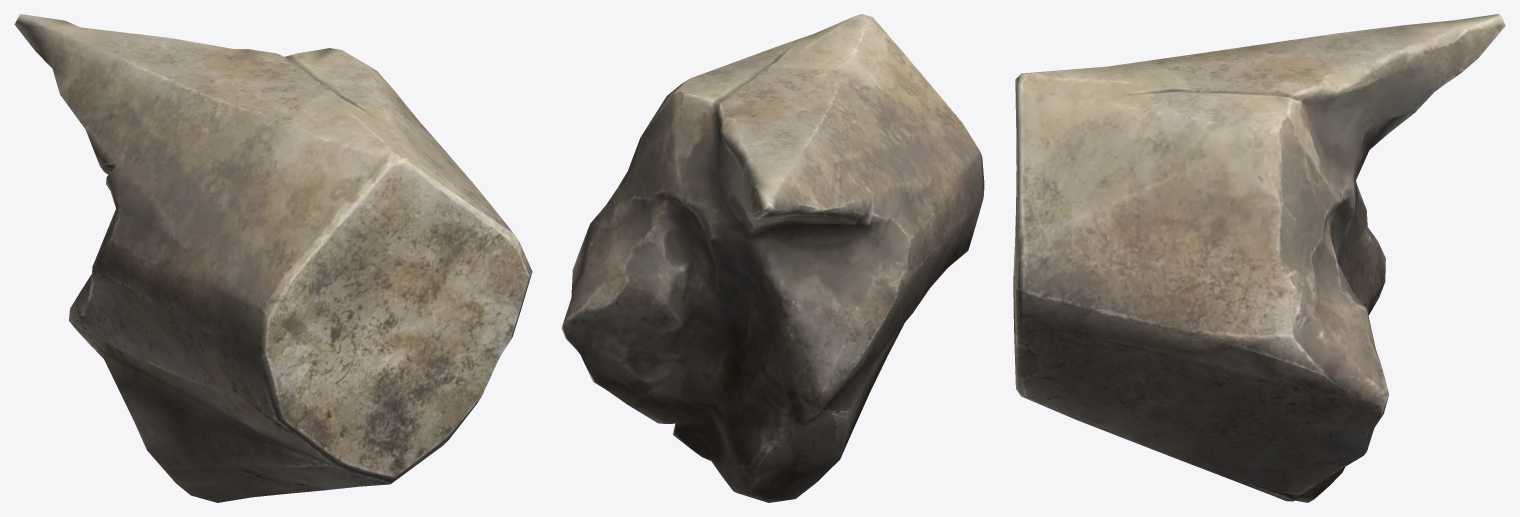
3 renders of one model, left to right at view 1: azimuth 30°, elevation 25°; view 2: azimuth 150°, elevation 25°; view 3: azimuth 270°, elevation 25°, orthographic. The views are drawn at different scales.
Visible parts, largest first — view 1: SM_Dragonkin_Gargoyles_01v4_LOD0; view 2: SM_Dragonkin_Gargoyles_01v4_LOD0; view 3: SM_Dragonkin_Gargoyles_01v4_LOD0.
Boxes of the visible parts, x1,y1,x2,y2 form: SM_Dragonkin_Gargoyles_01v4_LOD0: (14, 14, 532, 502); SM_Dragonkin_Gargoyles_01v4_LOD0: (561, 14, 984, 502); SM_Dragonkin_Gargoyles_01v4_LOD0: (1013, 14, 1505, 502).
Bounding box in the file's own units: 1.11 × 1.34 × 1.38.
Materials: 1 (1 with a texture image).
